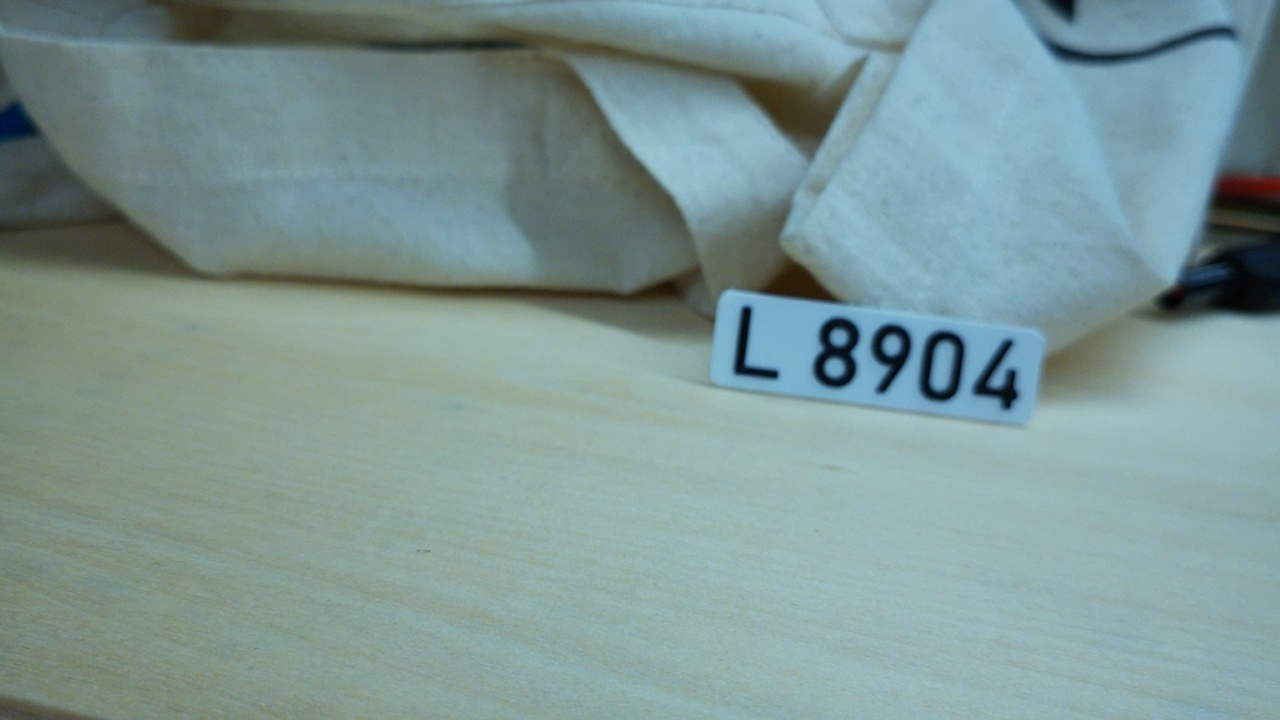license_plate: (705, 285, 1049, 428)
